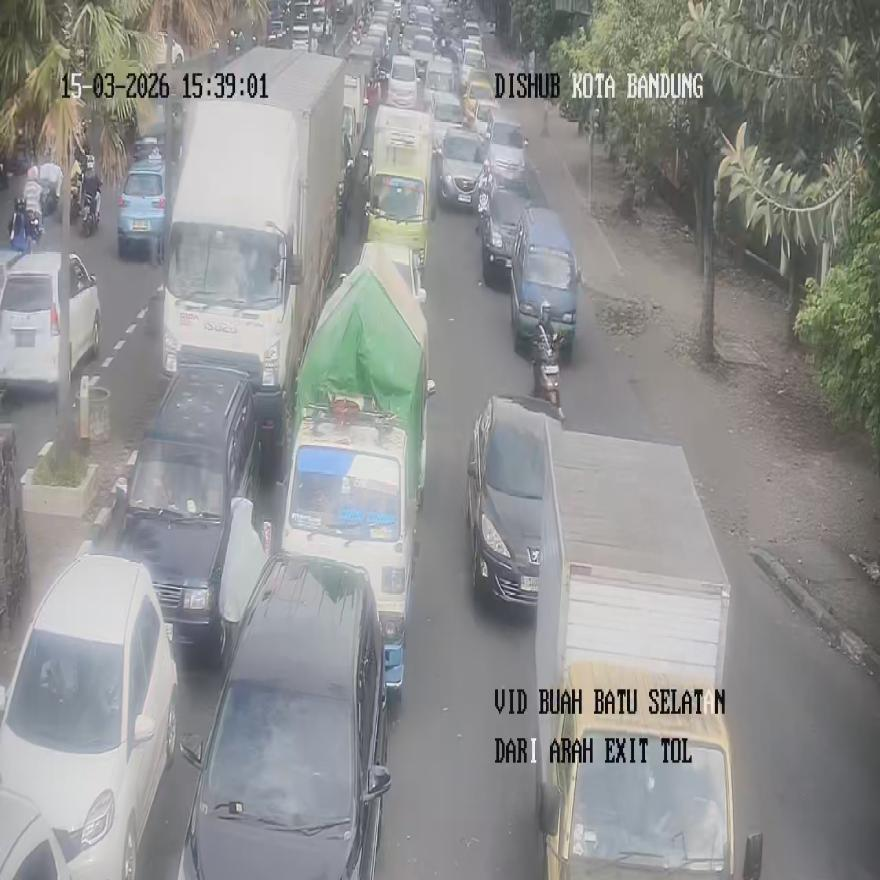Motor: (175, 554, 391, 878), (0, 552, 177, 876), (115, 363, 258, 664), (466, 394, 560, 606), (0, 249, 100, 395), (509, 206, 581, 360)
Truk: (532, 304, 563, 418), (79, 188, 100, 237), (229, 28, 242, 56)
